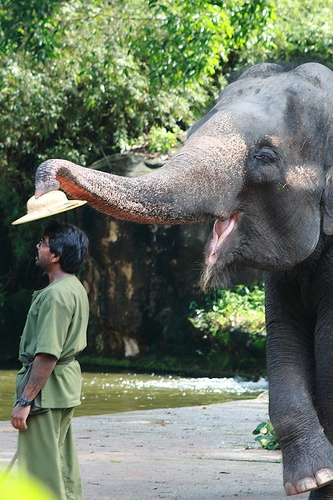elephant: (35, 63, 333, 500)
